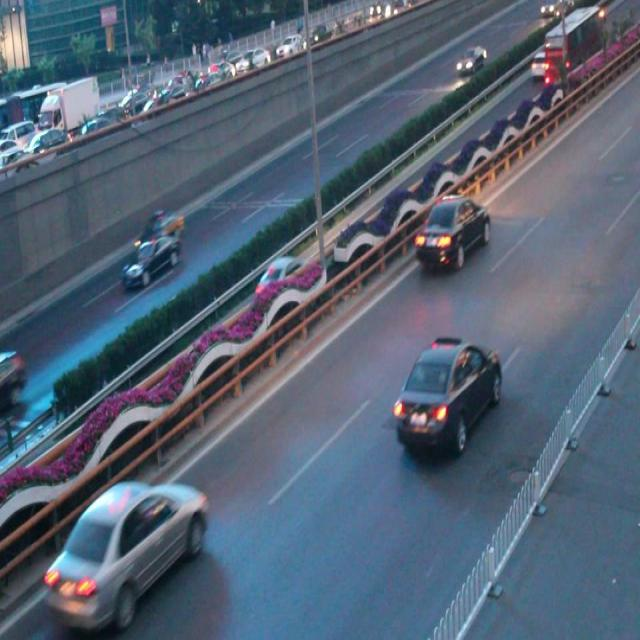car: (47, 474, 210, 640), (397, 330, 500, 452), (415, 194, 488, 269), (124, 236, 180, 286), (254, 253, 304, 297), (140, 205, 187, 244), (1, 344, 27, 403)
